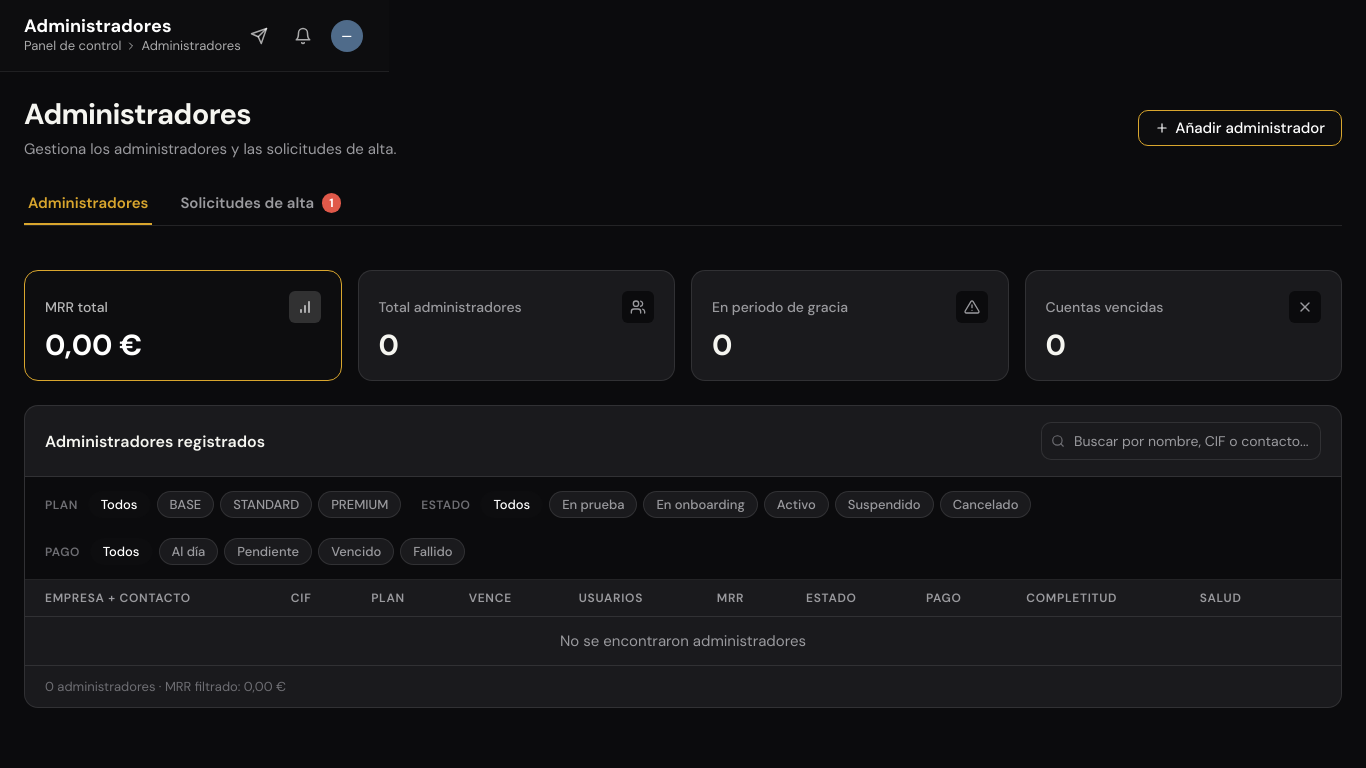
Test: DashboardAComponent › solicitudes de alta (onboarding) › marcar como contactada actualiza el estado sin recargar toda la página
The width and height of the screenshot is (1366, 768).
Click the button "Solicitudes de alta 1". click: (260, 204)
box: [176,183,344,225]
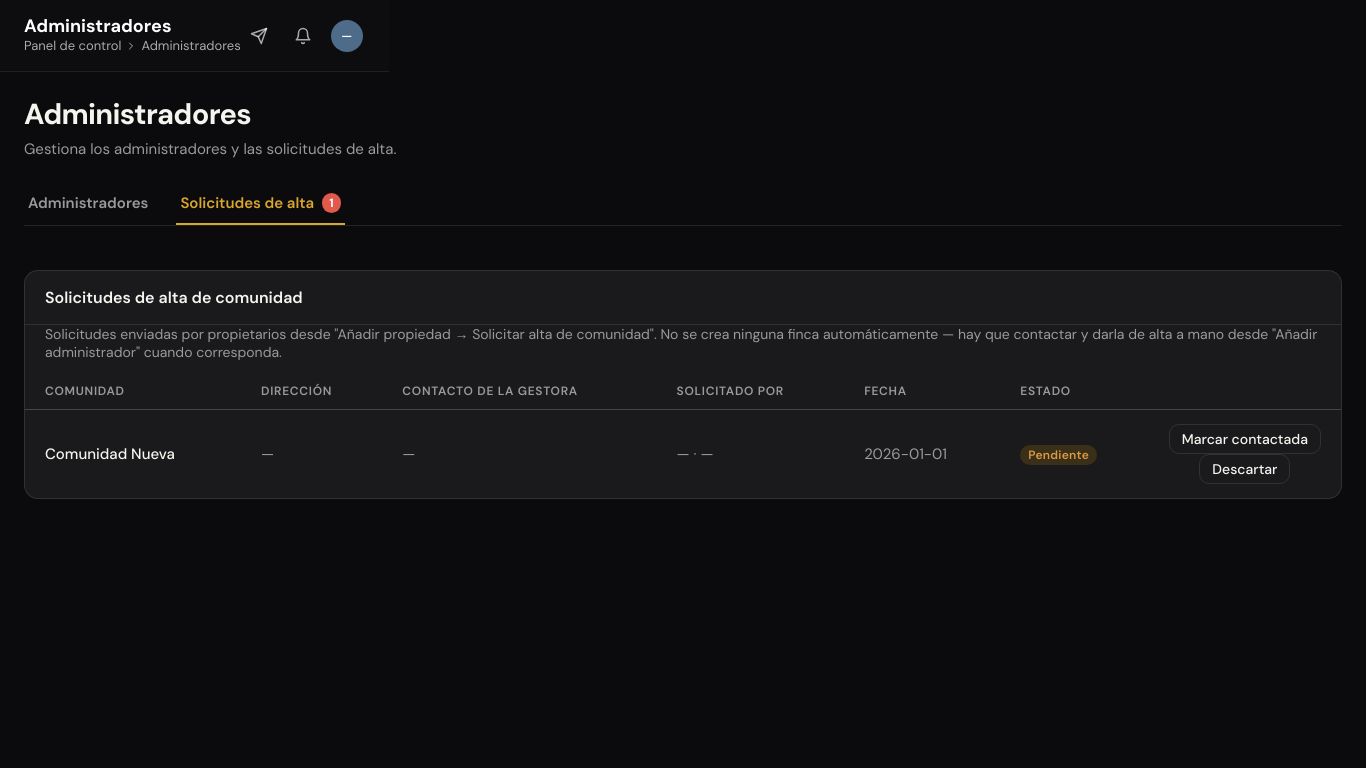
Click the button "Marcar contactada". click: (1245, 439)
box: [1169,424,1321,454]
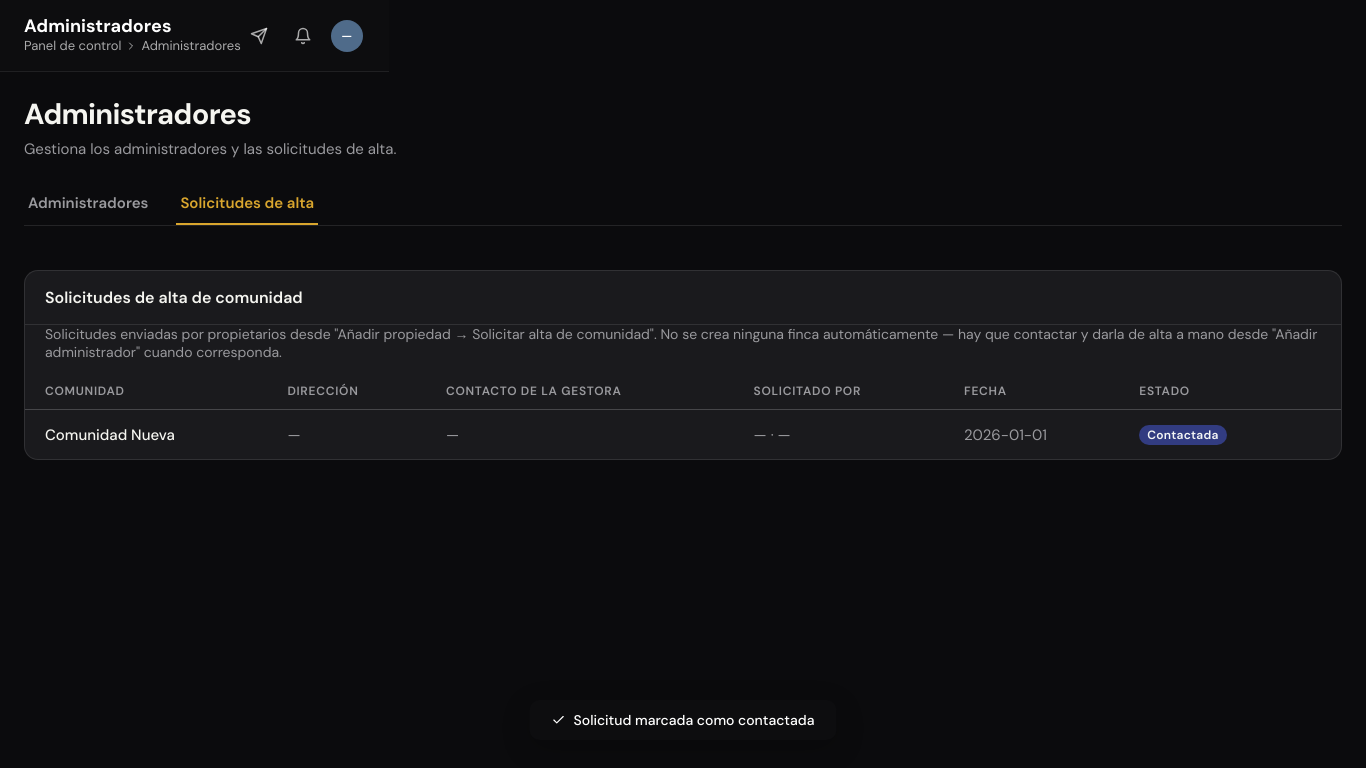
Now the element with class "toast" shows "contactada", box [574,711,814,729]
Now the text "Marcar contactada" is gone
